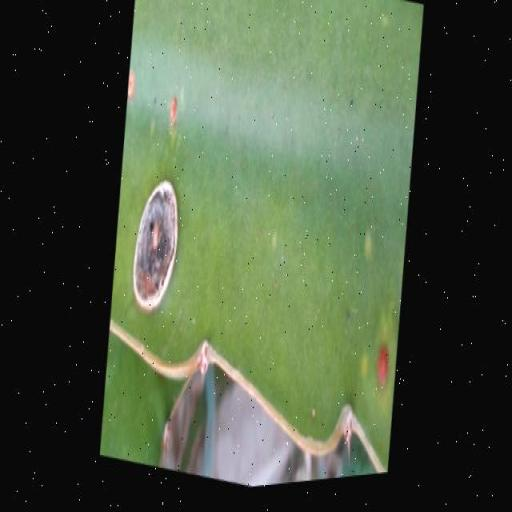stemcanker: (296, 66, 337, 136), (454, 138, 486, 205), (306, 8, 340, 47)
